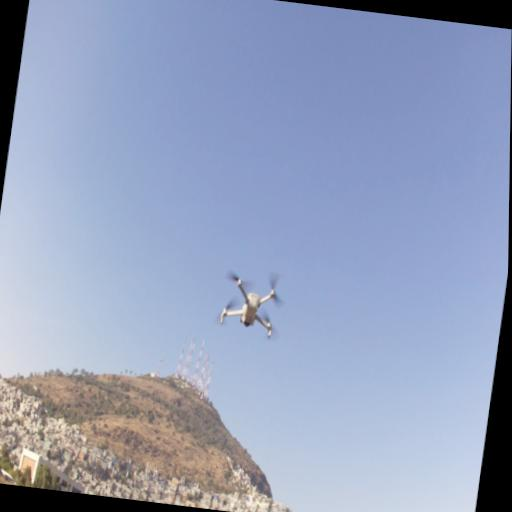drones: (210, 256, 292, 348)
